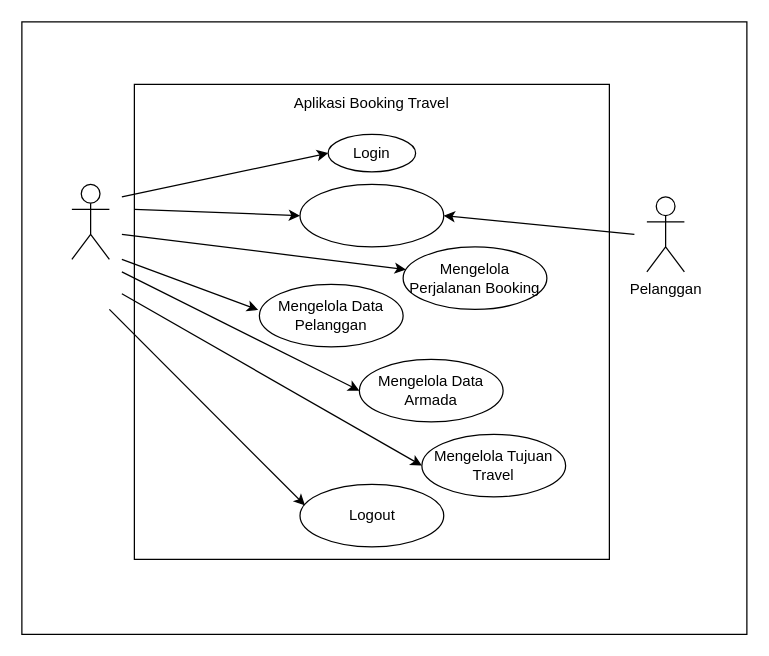
The diagram is 769 pixels wide and 656 high, and some of its shapes have lost their labels. Here are the shapes that lost their labels. From the top down, the centre of each, then its label:
the point at 90,221: admin
the point at 371,215: Membuat Booking Perjalanan
